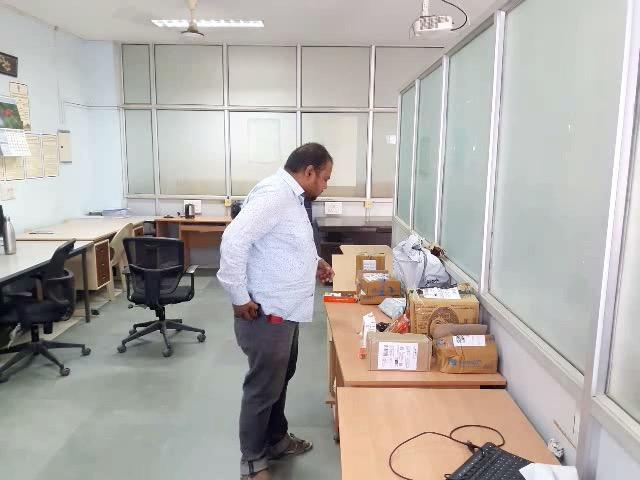shoplifting: (174, 274, 335, 361)
